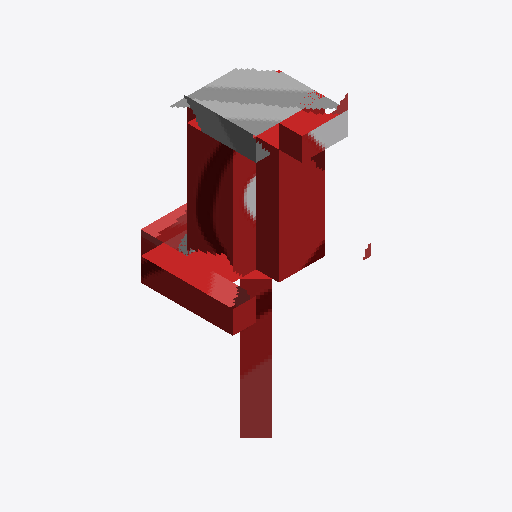
Isometric view (azimuth 45°, elevation 35.3°) of a Minecraft model made of 16 cuboids, textured from the same repository.
Parts seen in each view (by area): element 11, element 10, element 3, element 16, pointy, element 6, element 14.
Boxes of the visible parts, box(x1,y1,x2,y2) form: element 11: box(187, 118, 255, 281); element 10: box(256, 110, 324, 281); element 3: box(170, 68, 347, 162); element 16: box(141, 243, 255, 335); pointy: box(240, 270, 271, 437); element 6: box(279, 110, 347, 162); element 14: box(141, 203, 192, 255).
Bounding box in the file's own units: 6 × 13 × 6.